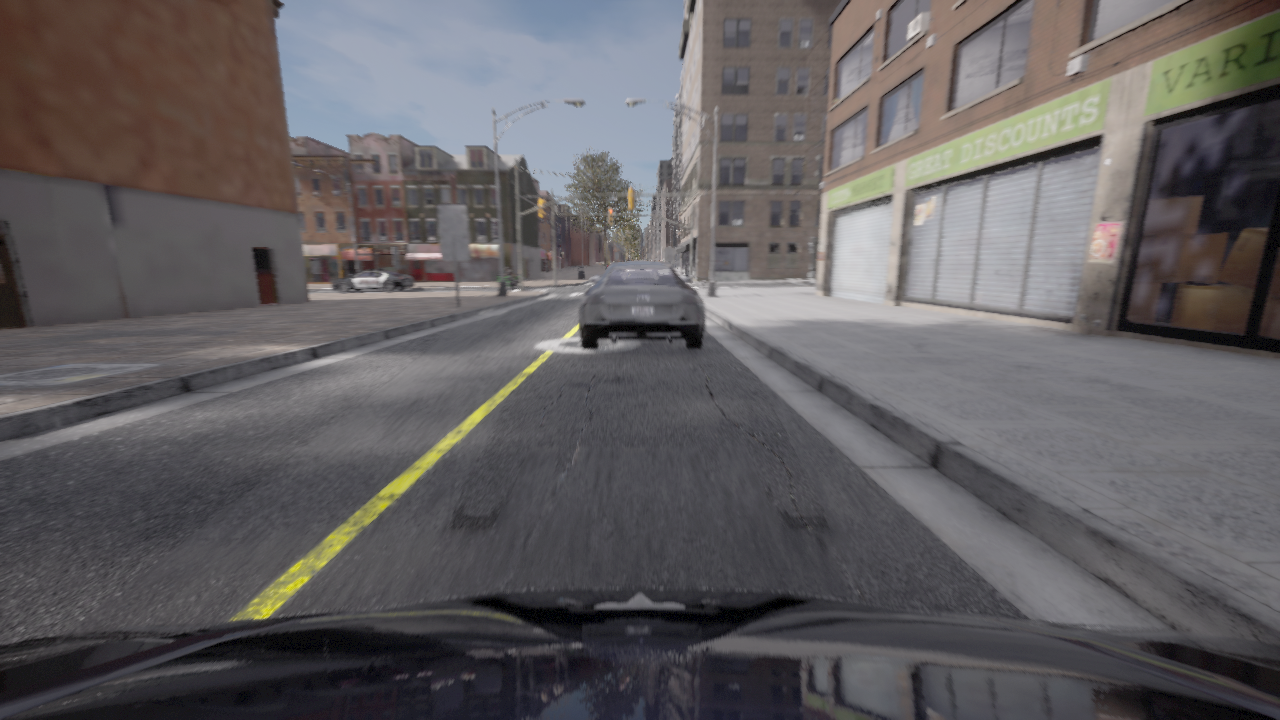cyclist: (0, 588, 1279, 719), (579, 262, 704, 349), (332, 269, 413, 292), (496, 274, 524, 289)
